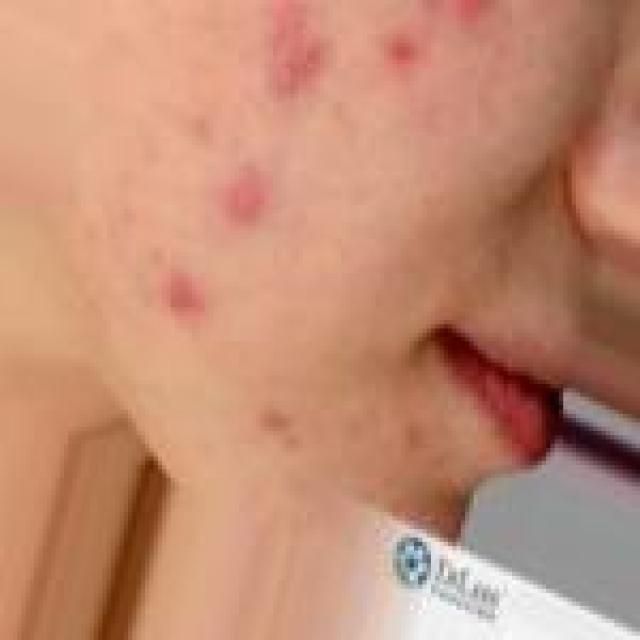acne: (254, 2, 360, 114), (211, 158, 280, 240), (383, 8, 435, 88), (163, 258, 218, 322)
